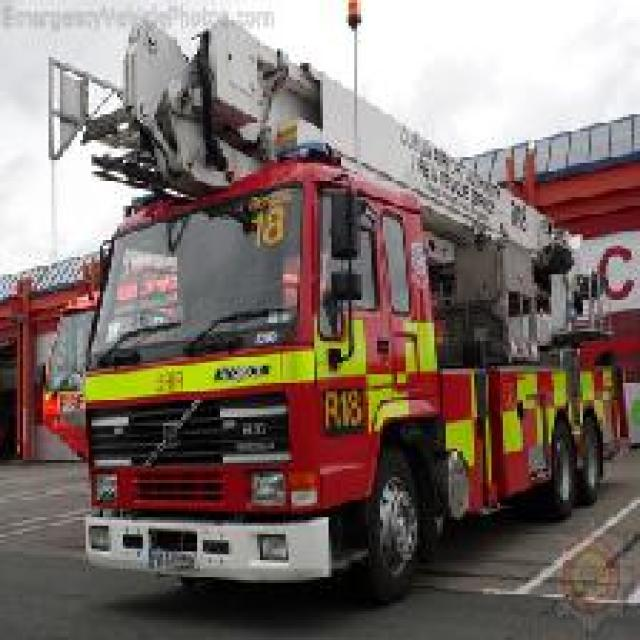Fire-truck: (37, 11, 629, 603)
